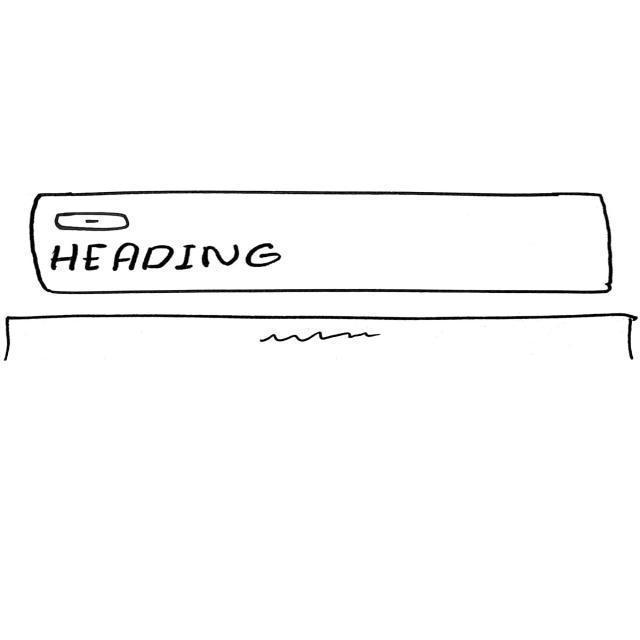container: (29, 190, 617, 297)
icon-button: (53, 212, 133, 233)
label: (48, 241, 283, 275)
text: (260, 331, 382, 347)
